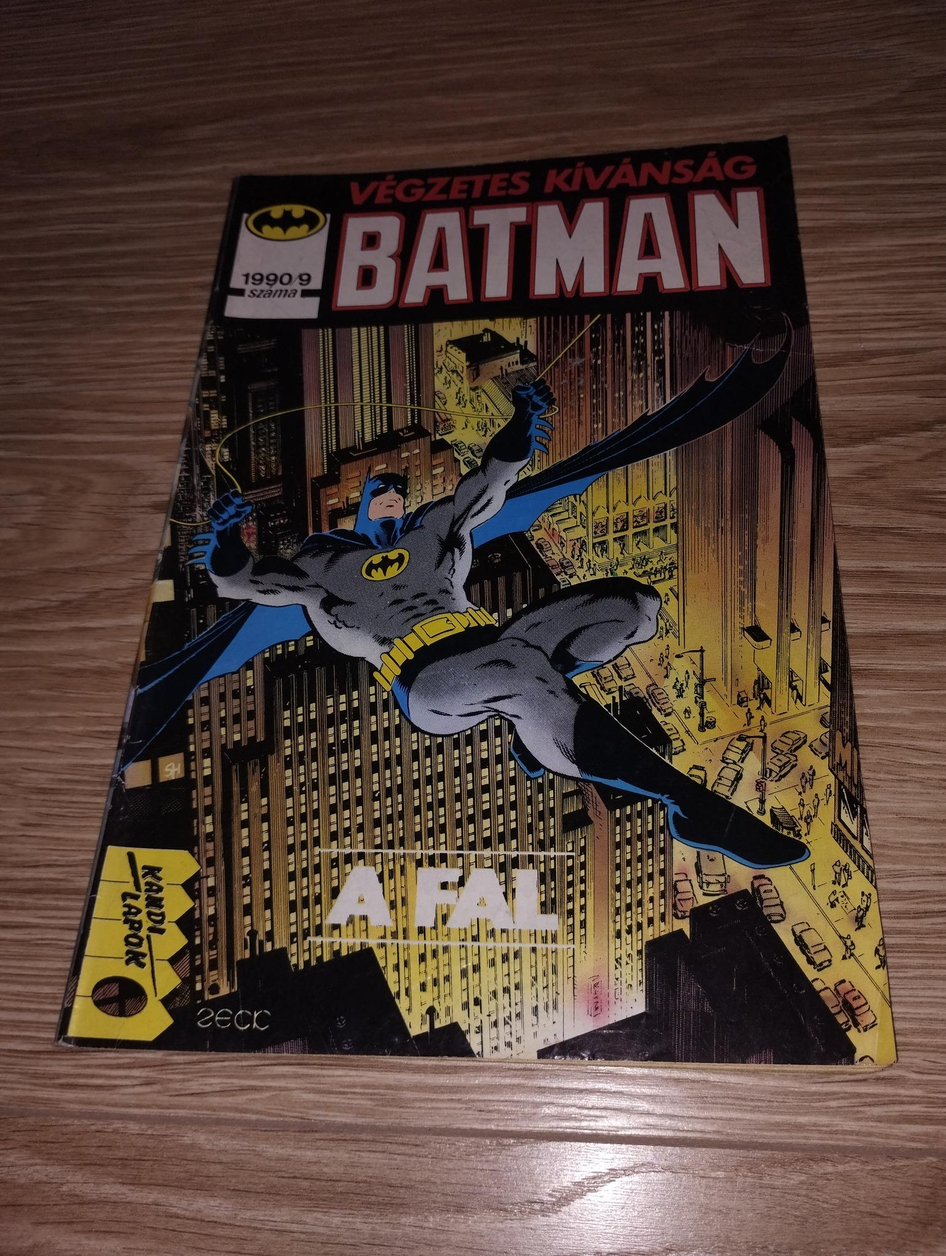comic: (59, 123, 916, 1066)
